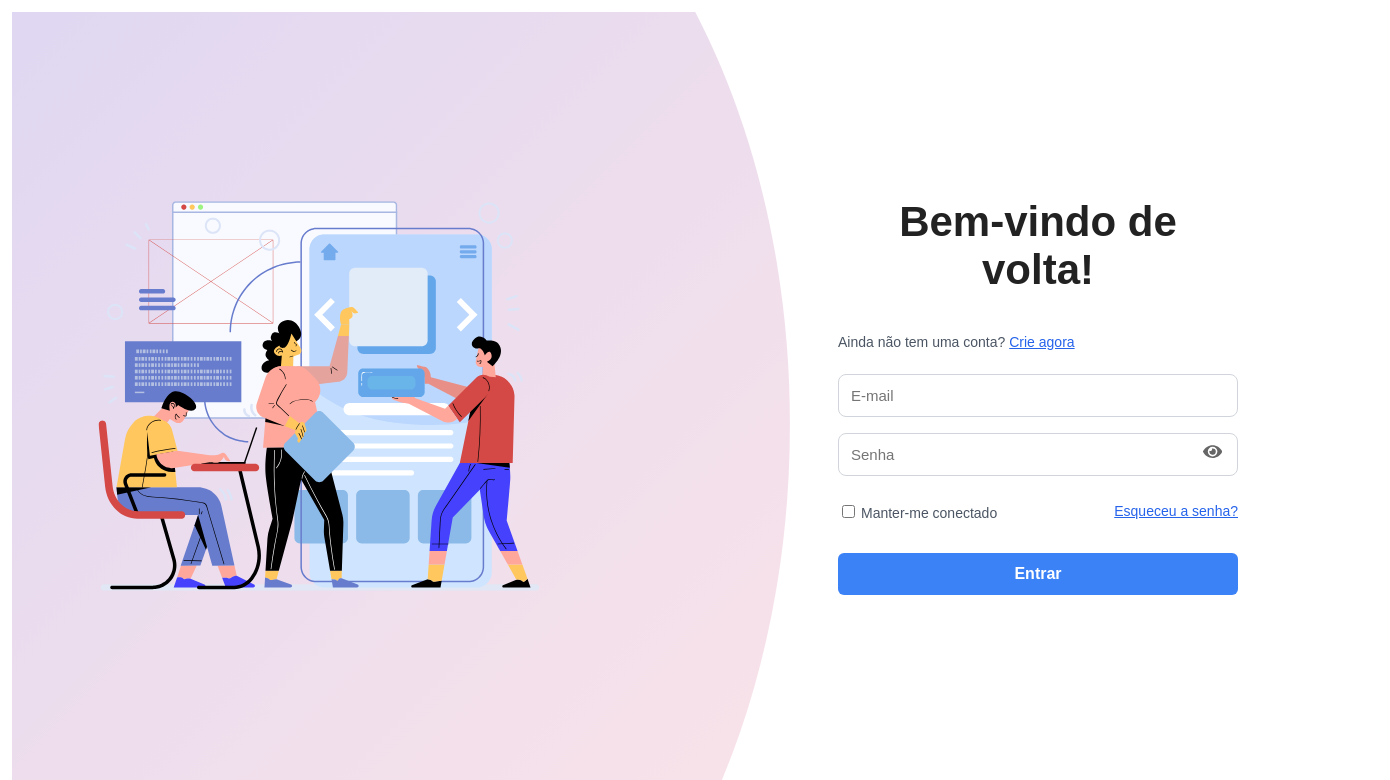
Componente Login › exibe erro se e-mail e senha estiverem vazios
Click the button "Entrar": (1038, 574) x1=838 y1=552 x2=1238 y2=594
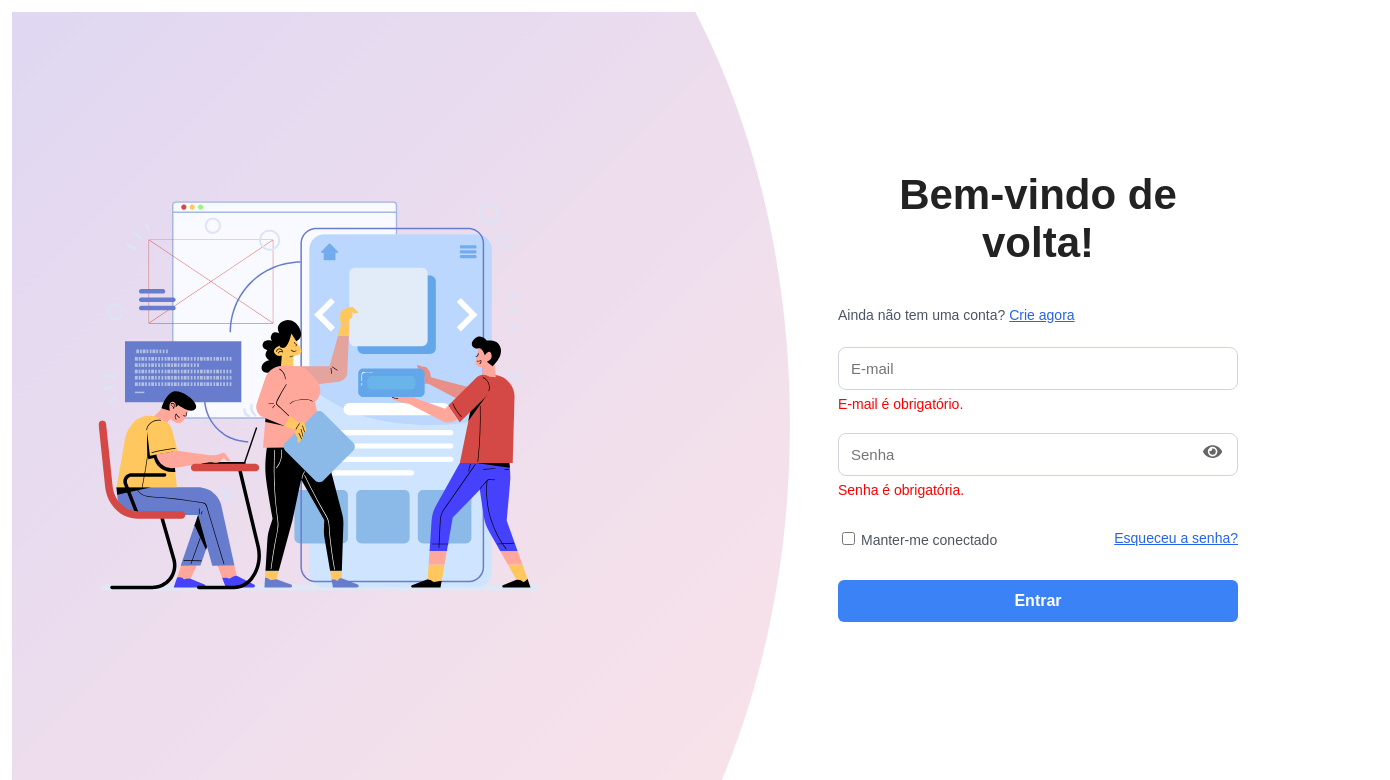
Check: the text "E-mail é obrigatório." is shown, box x1=838 y1=396 x2=963 y2=412
Check: the text "Senha é obrigatória." is shown, box x1=838 y1=482 x2=964 y2=498
